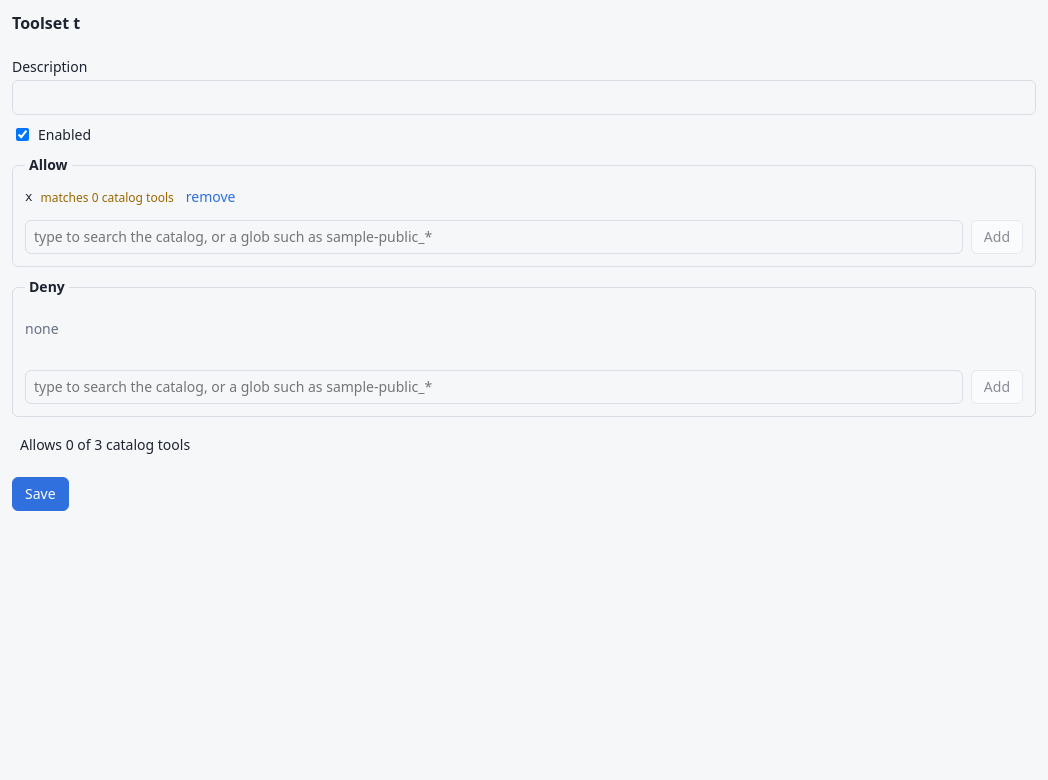
Test: ToolsetForm › refuses characters the schema does not allow and shows API validation errors
The width and height of the screenshot is (1048, 780).
Type "has space" into the field named "Allow pattern" at (494, 237), box [25,220,963,254]
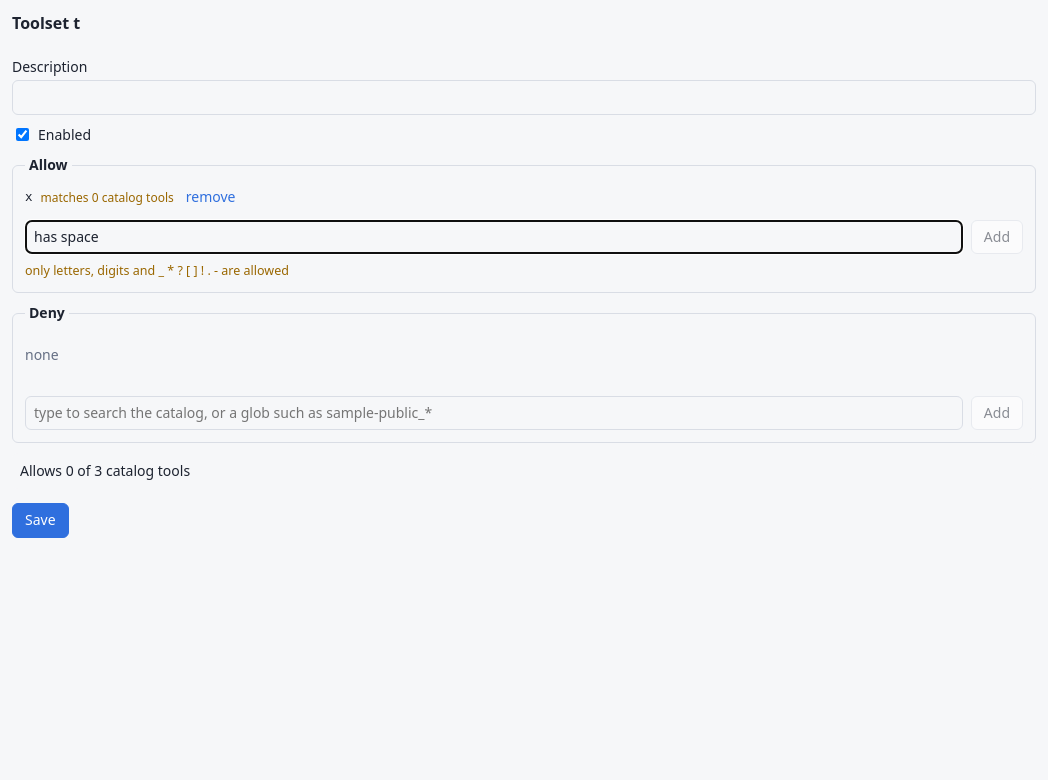
Expected: the text "only letters, digits and _ * ? [ ] ! . - are allowed" is shown, [25,262,289,279]
Click the button "Save" at (40, 520), box [12,503,69,538]
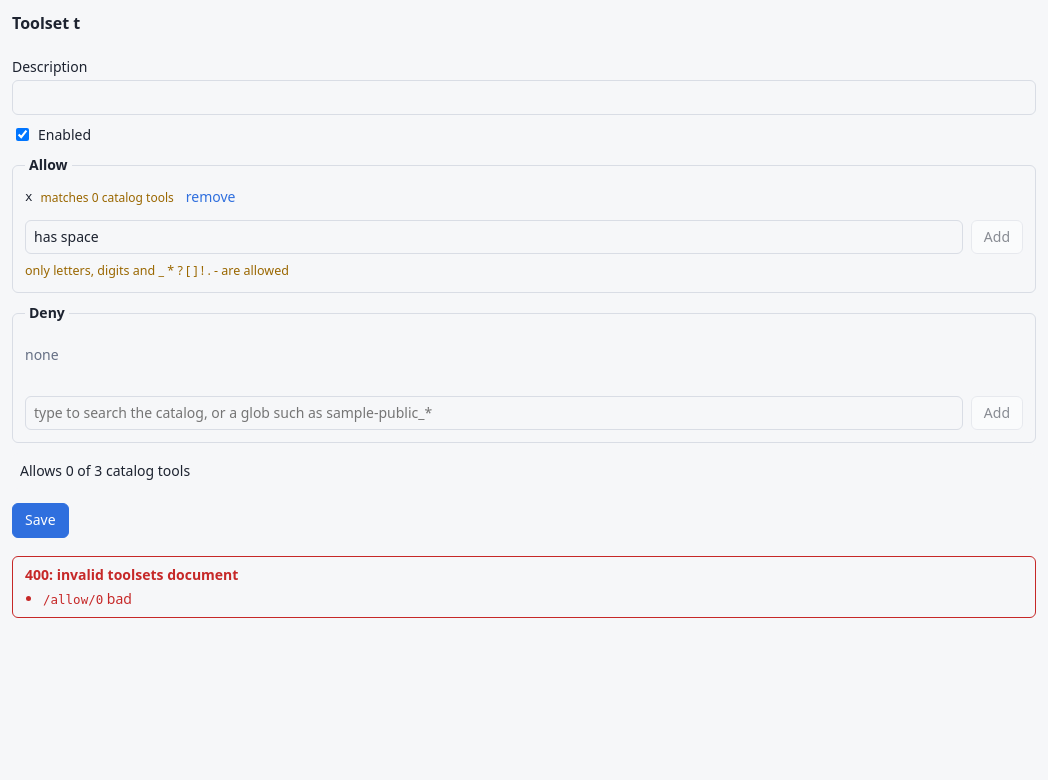
Expected: the message shows "/allow/0 bad", [12,556,1036,618]
